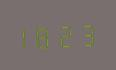eight: (38, 21, 57, 49)
one: (18, 22, 37, 51)
three: (78, 18, 97, 47)
two: (58, 19, 77, 48)
